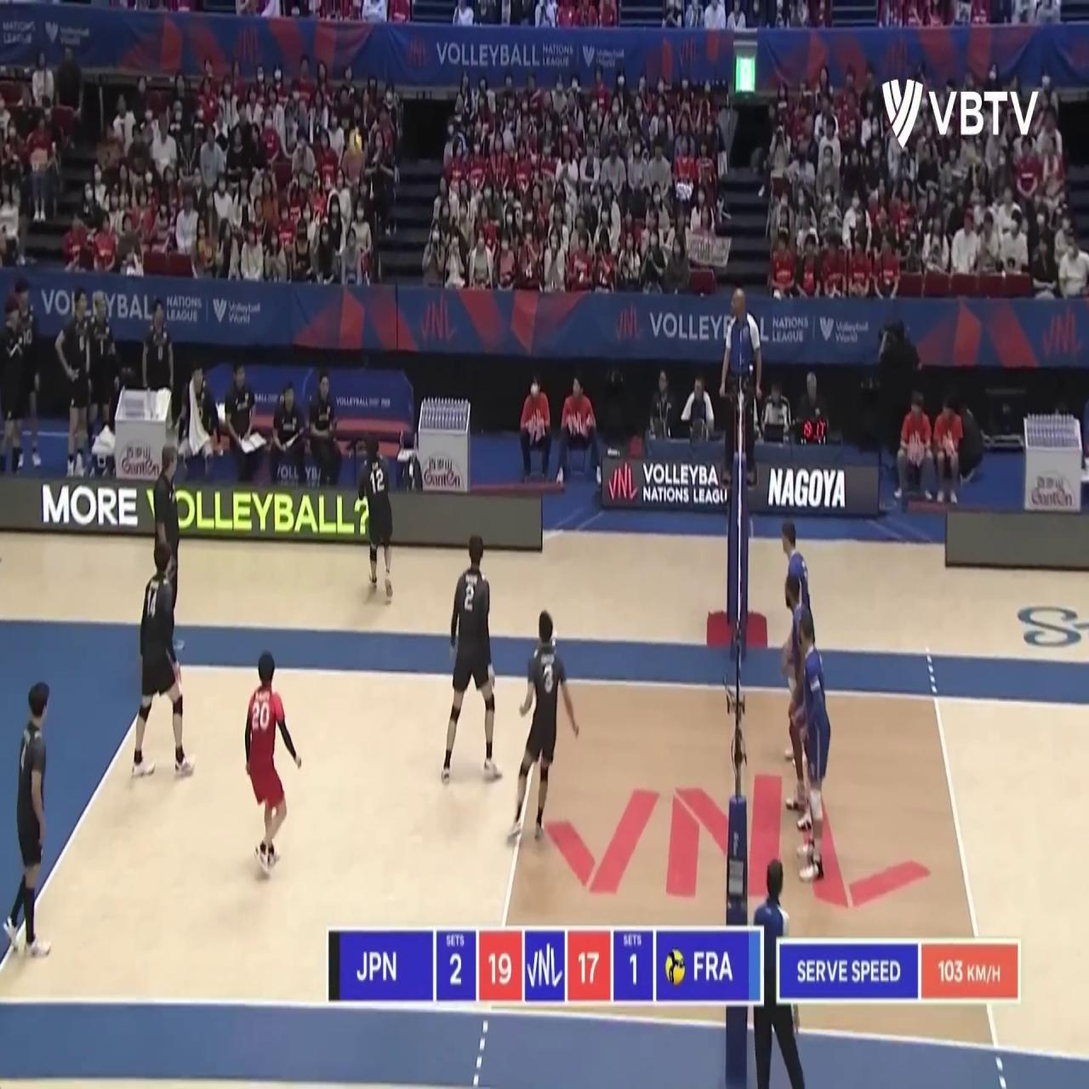ball: (348, 129, 364, 158)
